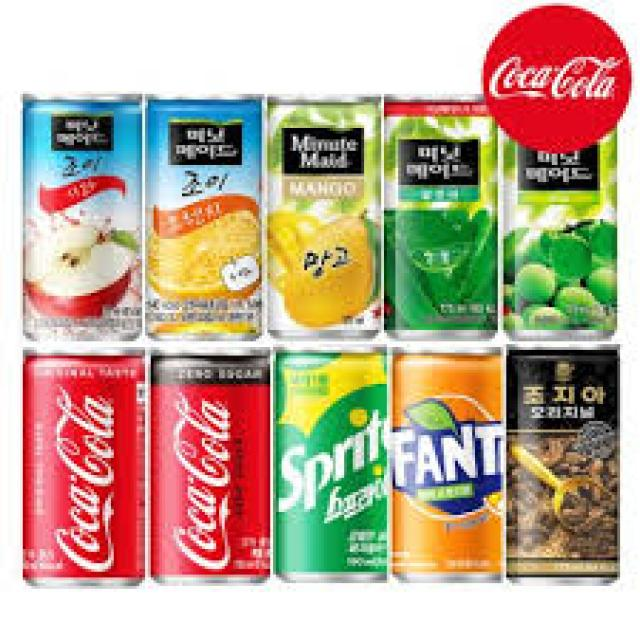Coca-Cola: (16, 338, 151, 593)
